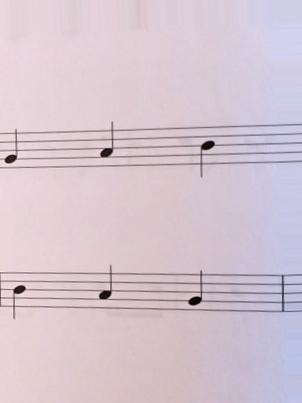A: (93, 262, 117, 322), (98, 118, 119, 175)
B: (194, 121, 220, 182), (9, 271, 29, 324)
G: (183, 263, 208, 320), (3, 125, 25, 174)
